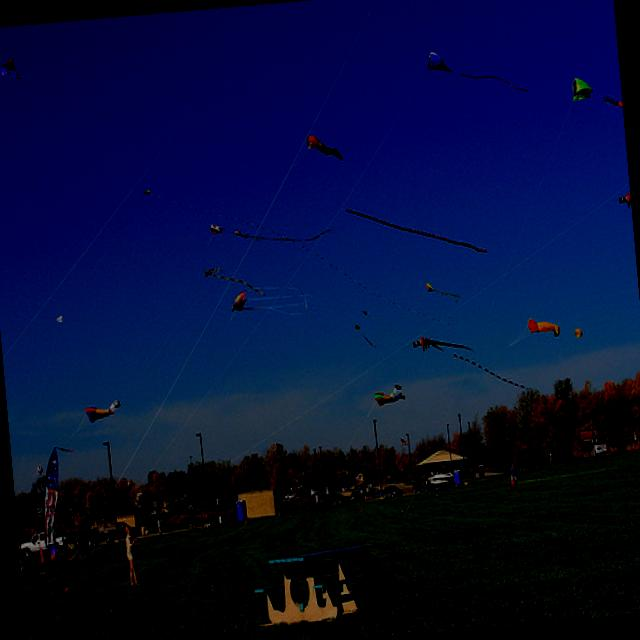Vehicle: (19, 530, 64, 558), (96, 520, 138, 544), (76, 530, 99, 546), (382, 483, 404, 498), (348, 489, 366, 504), (411, 476, 426, 493), (460, 466, 476, 479)
